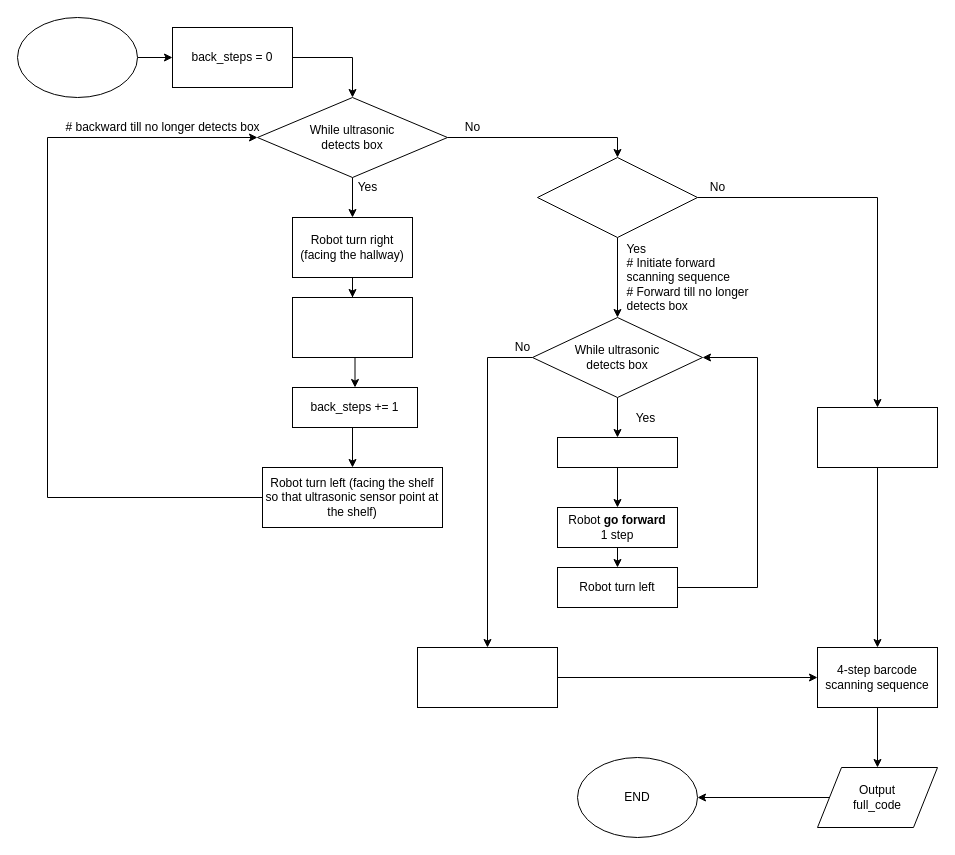
This 955x855 diagram has some shape labels left out. The shapes that lost their labels are listed below. From the top down, each one's centre as x and y in pixels, then its label:
At pixel 77 57: "START".
At pixel 617 197: "If back_steps > 4?".
At pixel 352 327: "Robot go backward 1 step".
At pixel 617 452: "Robot turn right".
At pixel 877 437: "Robot goes some extra steps to align with the 1st color bit".
At pixel 487 677: "Robot go backward some more steps to align with the 1st color bit".
